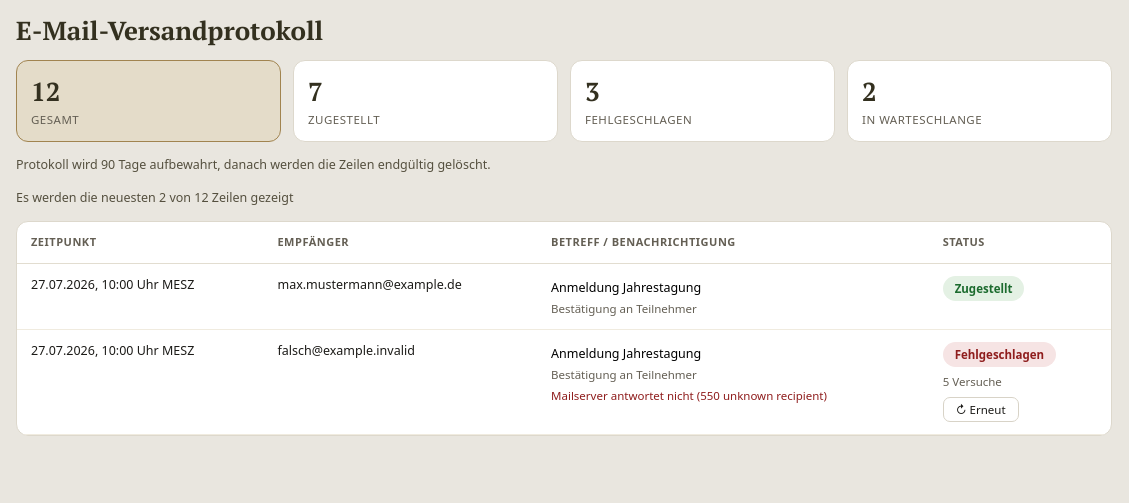
Test: MailLogView › explains a retry the server refused
Expected: the heading "E-Mail-Versandprotokoll" is shown, [16, 16, 323, 46]
Click the button "↻ Erneut" at [981, 409], box [943, 397, 1019, 422]
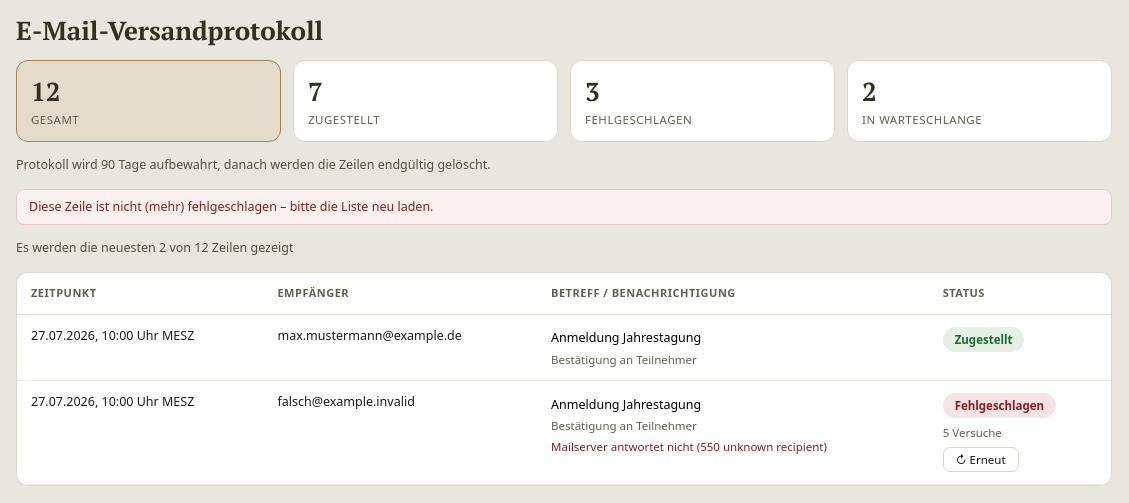
Now the message "Diese Zeile ist nicht (mehr) fehlgeschlagen – bitte die Liste neu laden." is shown, box [16, 189, 1112, 225]
